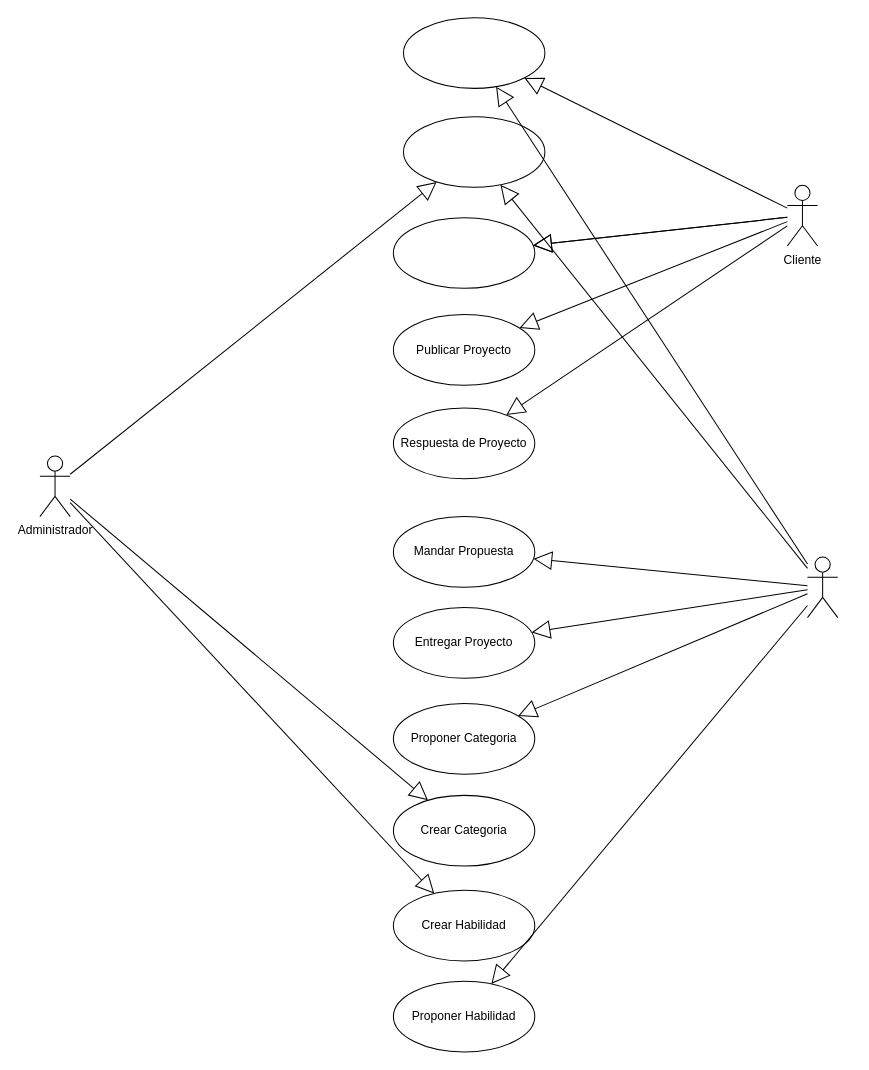
The diagram is 869 pixels wide and 1070 high, and some of its shapes have lost their labels. Each missing label, with the centre of its shape:
"Freelancer" goes at [822,587].
"Ingresar al Sistema" goes at [473,151].
"Recargar Saldo" goes at [463,252].
"Registrarse" goes at [473,52].
